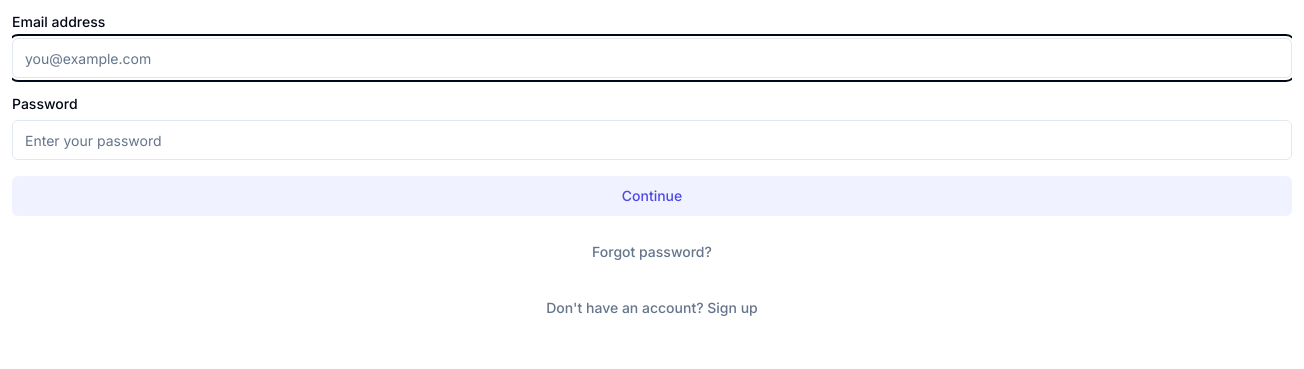
EmailPasswordAuthForm › Error handling › displays Firebase error messages on sign-in failure
Type "test@example.com" into the field labelled "Email address". click: (652, 58)
box: [12, 38, 1292, 78]
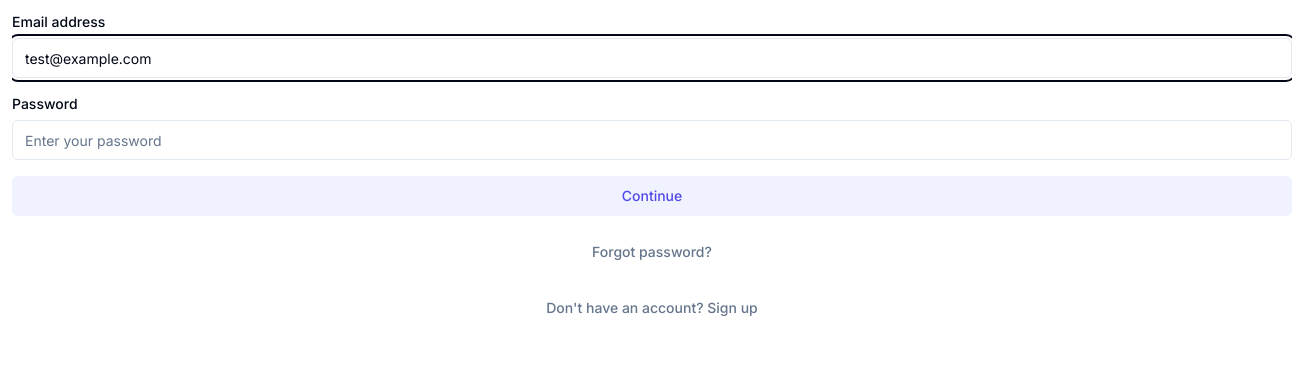
Type "wrongpassword12345678" into the password field labelled "Password". click: (652, 140)
box: [12, 120, 1292, 160]
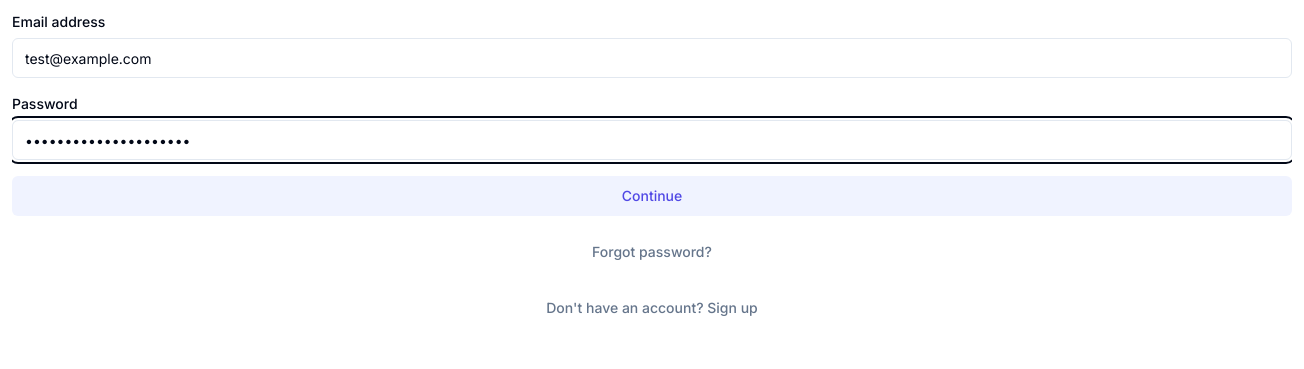
Click the button "Continue". click: click(652, 196)
box: [12, 176, 1292, 216]
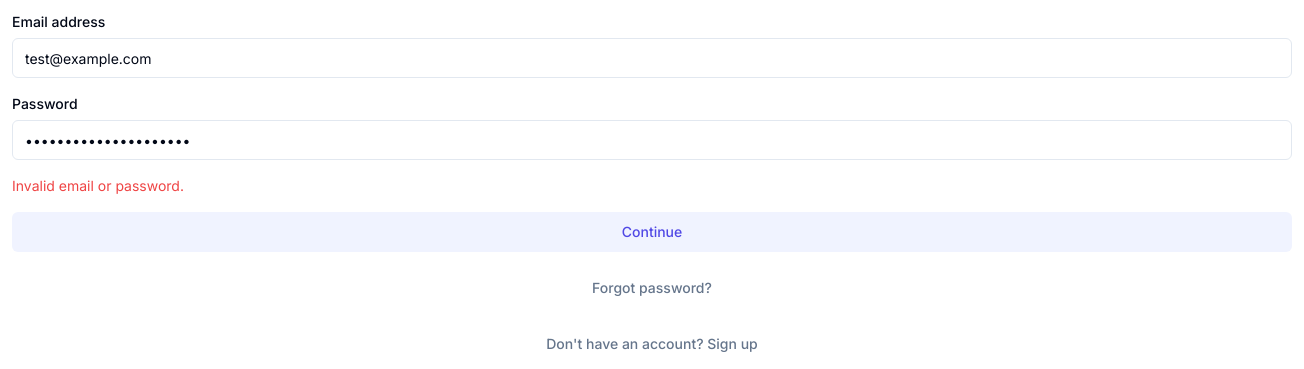
Expected: the text "Invalid email or password." is shown, [12, 177, 184, 194]
